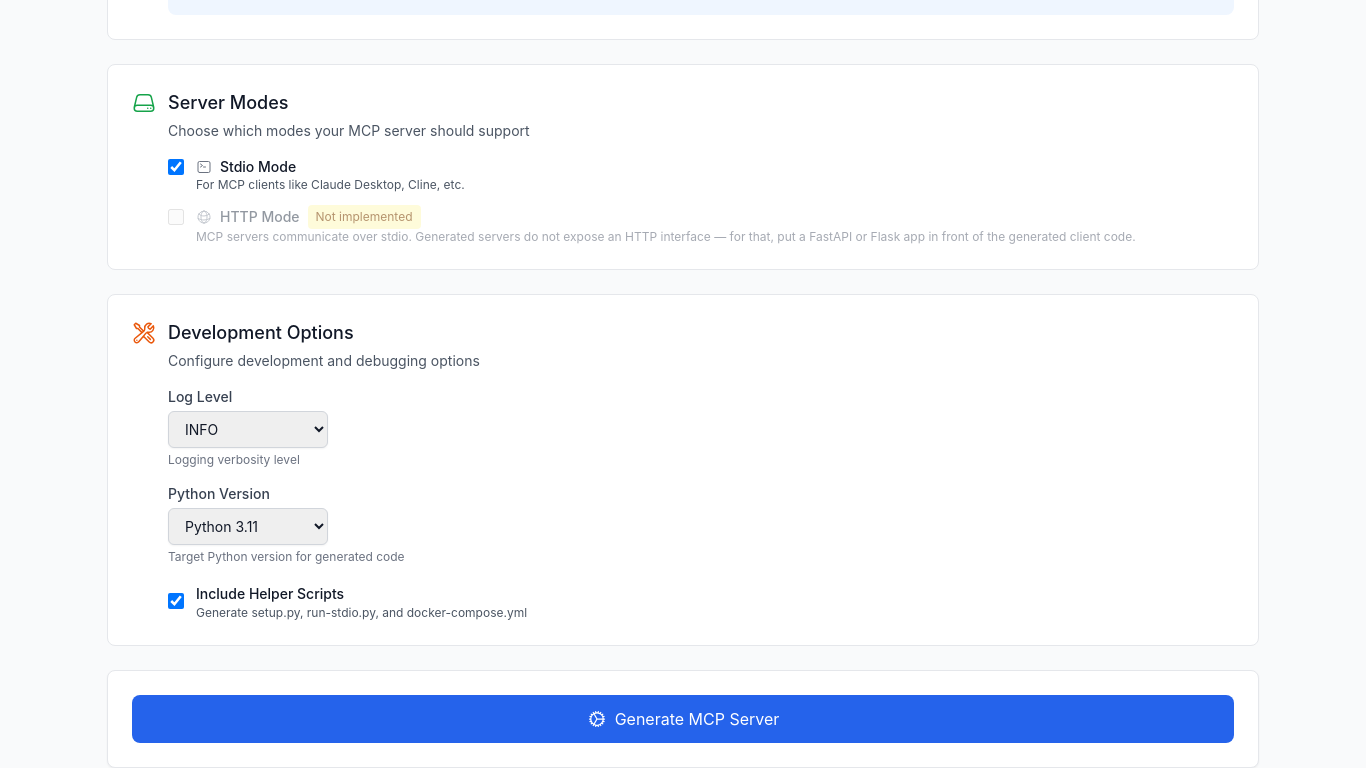
Scenario: MCPGenerator generation failure › offers no download when generation failed
(page scrolled)
Click the button at coordinates (683, 719), box [132,695,1234,743]
(page scrolled)
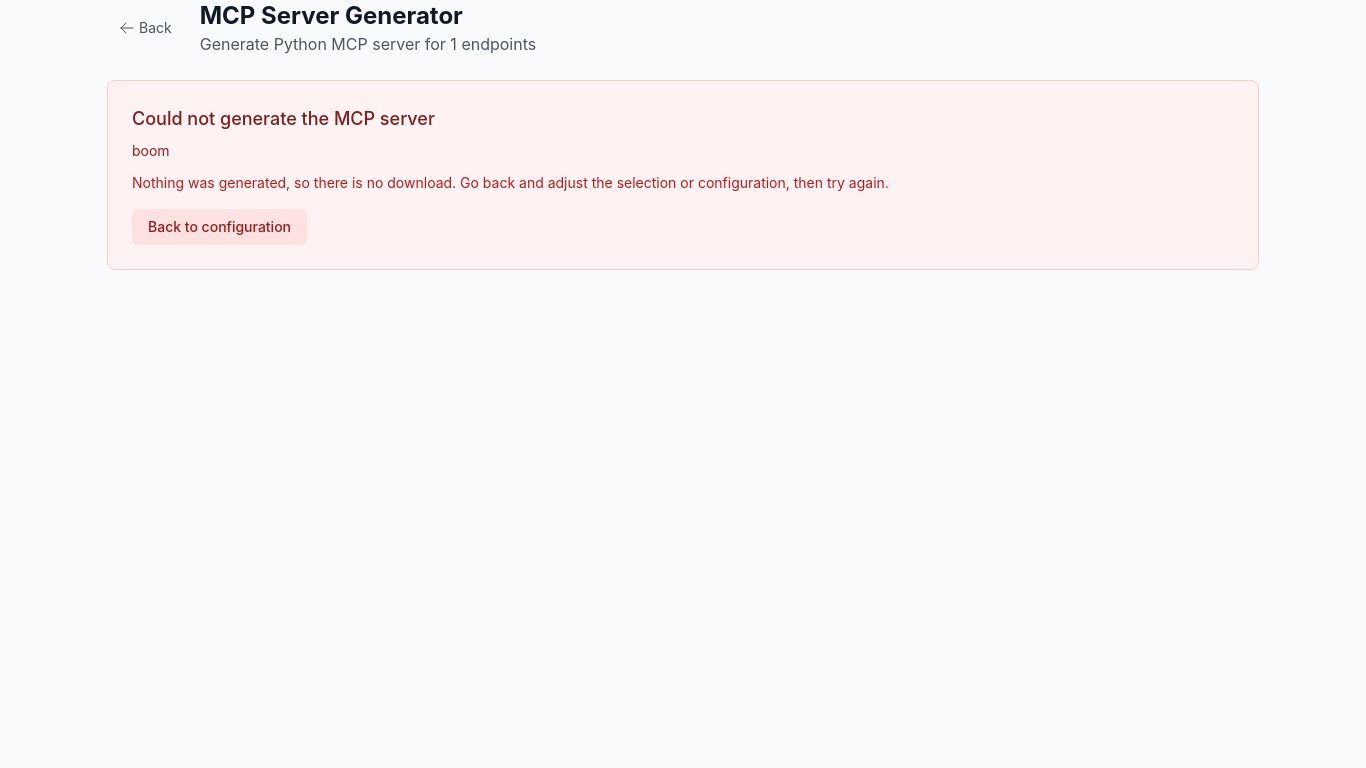
Result: the message is shown at [107,80,1259,270]
